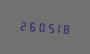eight: (63, 21, 71, 35)
five: (45, 20, 53, 34)
one: (54, 20, 62, 35)
six: (26, 18, 34, 33)
two: (17, 18, 25, 32)
zero: (36, 19, 44, 33)
